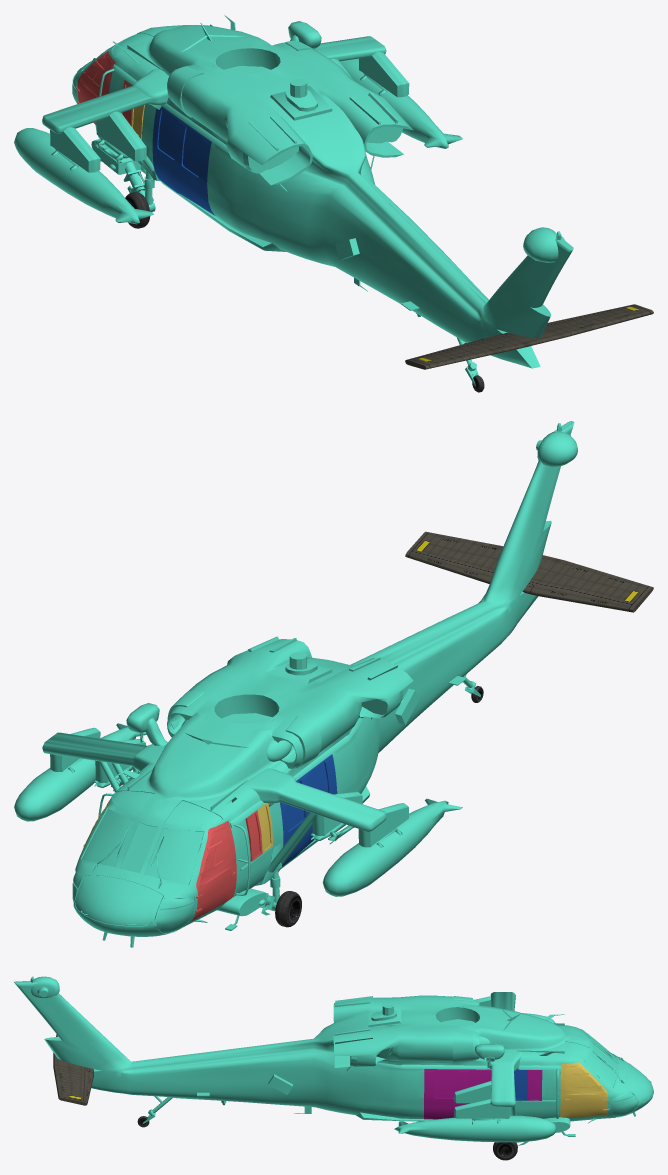
The model's file is uh60_nomotor.obj.
The picture shows the model from 3 angles, top to bottom: view 1: azimuth 30°, elevation 25°; view 2: azimuth 150°, elevation 25°; view 3: azimuth 270°, elevation 25°; orthographic projection. The views are drawn at different scales.
Parts seen in each view (by area): view 1: fuselage, Door_L, elevator, cabinDoor_L; view 2: fuselage, elevator, cabinDoor_L, Door_L, Tyre_L; view 3: fuselage, Door_R, cabinDoor_R, elevator, Window_R2, window_R1, tyre_R.
Boxes of the visible parts, box(x1,y1,x2,y2) form: fuselage: box(14, 15, 573, 386); Door_L: box(152, 106, 215, 215); elevator: box(405, 304, 653, 369); cabinDoor_L: box(75, 51, 115, 124); fuselage: box(14, 421, 577, 947); elevator: box(405, 531, 653, 612); cabinDoor_L: box(192, 821, 236, 920); Door_L: box(279, 754, 337, 866); Tyre_L: box(275, 891, 301, 927); fuselage: box(14, 976, 653, 1145); Door_R: box(424, 1069, 491, 1119); cabinDoor_R: box(560, 1062, 609, 1117); elevator: box(53, 1034, 93, 1105); Window_R2: box(527, 1070, 542, 1100); window_R1: box(514, 1069, 527, 1100); tyre_R: box(493, 1142, 517, 1160).
Bounding box in the file's own units: 6.8 × 4.35 × 16.04.
